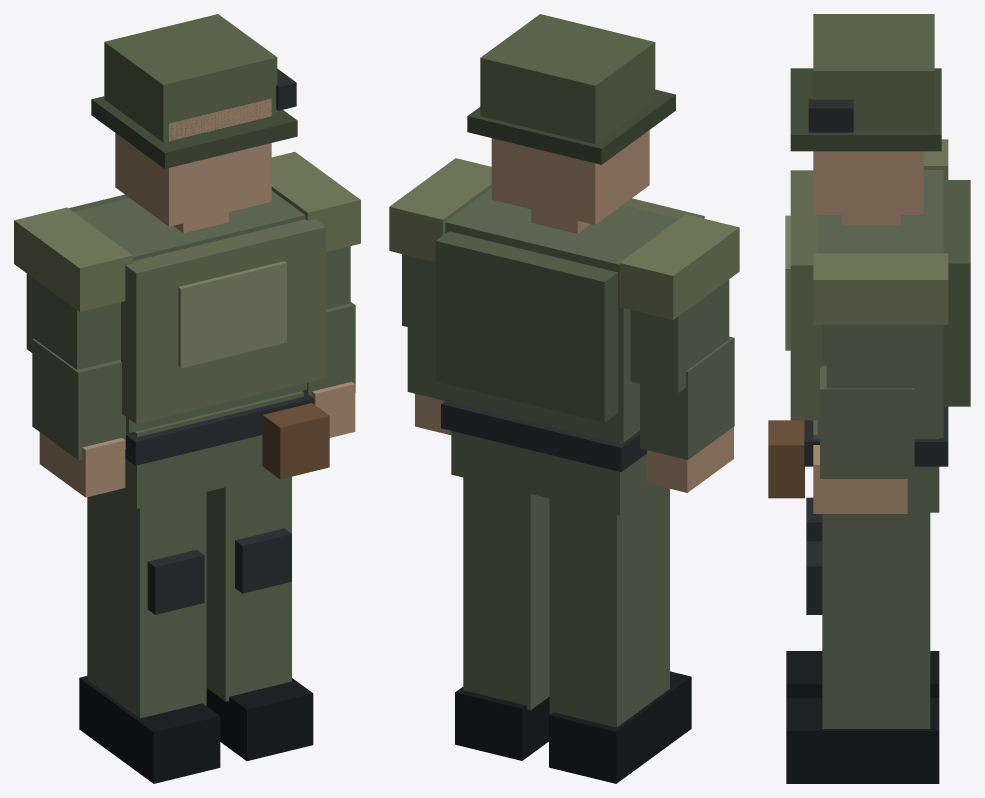
Rendered from CMU3DMarineDraft.glb.
3 renders of one model, left to right at view 1: azimuth 30°, elevation 25°; view 2: azimuth 150°, elevation 25°; view 3: azimuth 270°, elevation 25°, orthographic. The views are drawn at different scales.
Visible parts, largest first — view 1: chest armor, left trouser leg, helmet crown, right trouser leg, head, armor center inset, left boot, left shoulder armor, left forearm, torso, pelvis, right boot (+12 smaller); view 2: back plate, left trouser leg, right trouser leg, helmet crown, torso, head, pelvis, left shoulder armor, left boot, left forearm, left upper arm, right shoulder armor (+9 smaller); view 3: right trouser leg, helmet crown, right boot, right shoulder armor, right forearm, torso, head, right upper arm, chest armor, back plate, helmet brim, right hand (+10 smaller).
Part boxes in pixels (x1,y1,x2,y2): chest armor: (121,219,326,424); left trouser leg: (87,491,206,718); helmet crown: (104,14,277,142); right trouser leg: (206,475,291,701); head: (115,98,271,226); armor center inset: (178,261,286,368); left boot: (79,676,220,783); left shoulder armor: (14,207,132,311); left forearm: (32,339,125,460); torso: (74,191,307,432); pelvis: (112,391,303,508); right boot: (206,678,313,760); back plate: (435,231,617,422); left trouser leg: (549,486,669,727); right trouser leg: (463,477,549,710); helmet crown: (480,14,655,143); torso: (443,188,678,442); head: (491,130,649,224); pelvis: (451,400,659,515); left shoulder armor: (619,214,739,319); left boot: (549,671,691,783); left forearm: (640,336,734,459); left upper arm: (630,279,729,392); right shoulder armor: (389,158,491,261); right trouser leg: (822,512,930,728); helmet crown: (813,14,934,130); right boot: (786,697,939,783); right shoulder armor: (813,253,948,324); right forearm: (820,365,914,478); torso: (817,170,943,437); head: (813,151,923,214); right upper arm: (826,325,930,404); chest armor: (790,170,822,420); back plate: (943,180,970,406); helmet brim: (790,68,941,151); right hand: (813,445,907,513).
Size of the model in its own units: 0.74 by 1.72 by 0.45.
